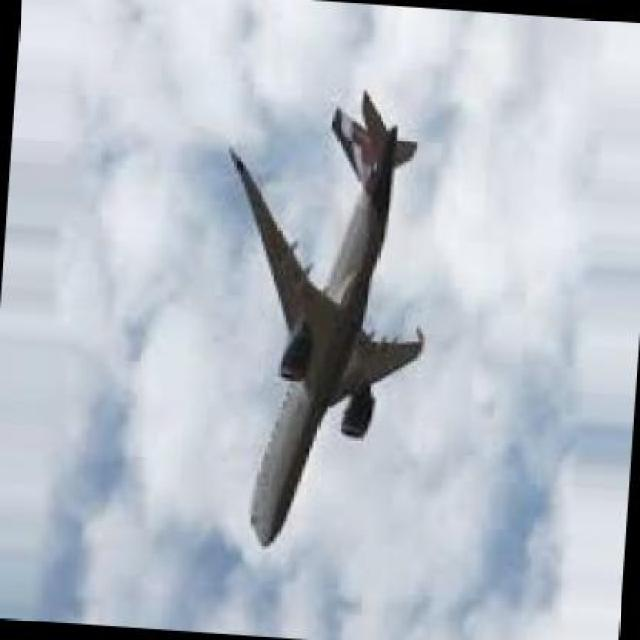iha: (213, 70, 435, 558)
